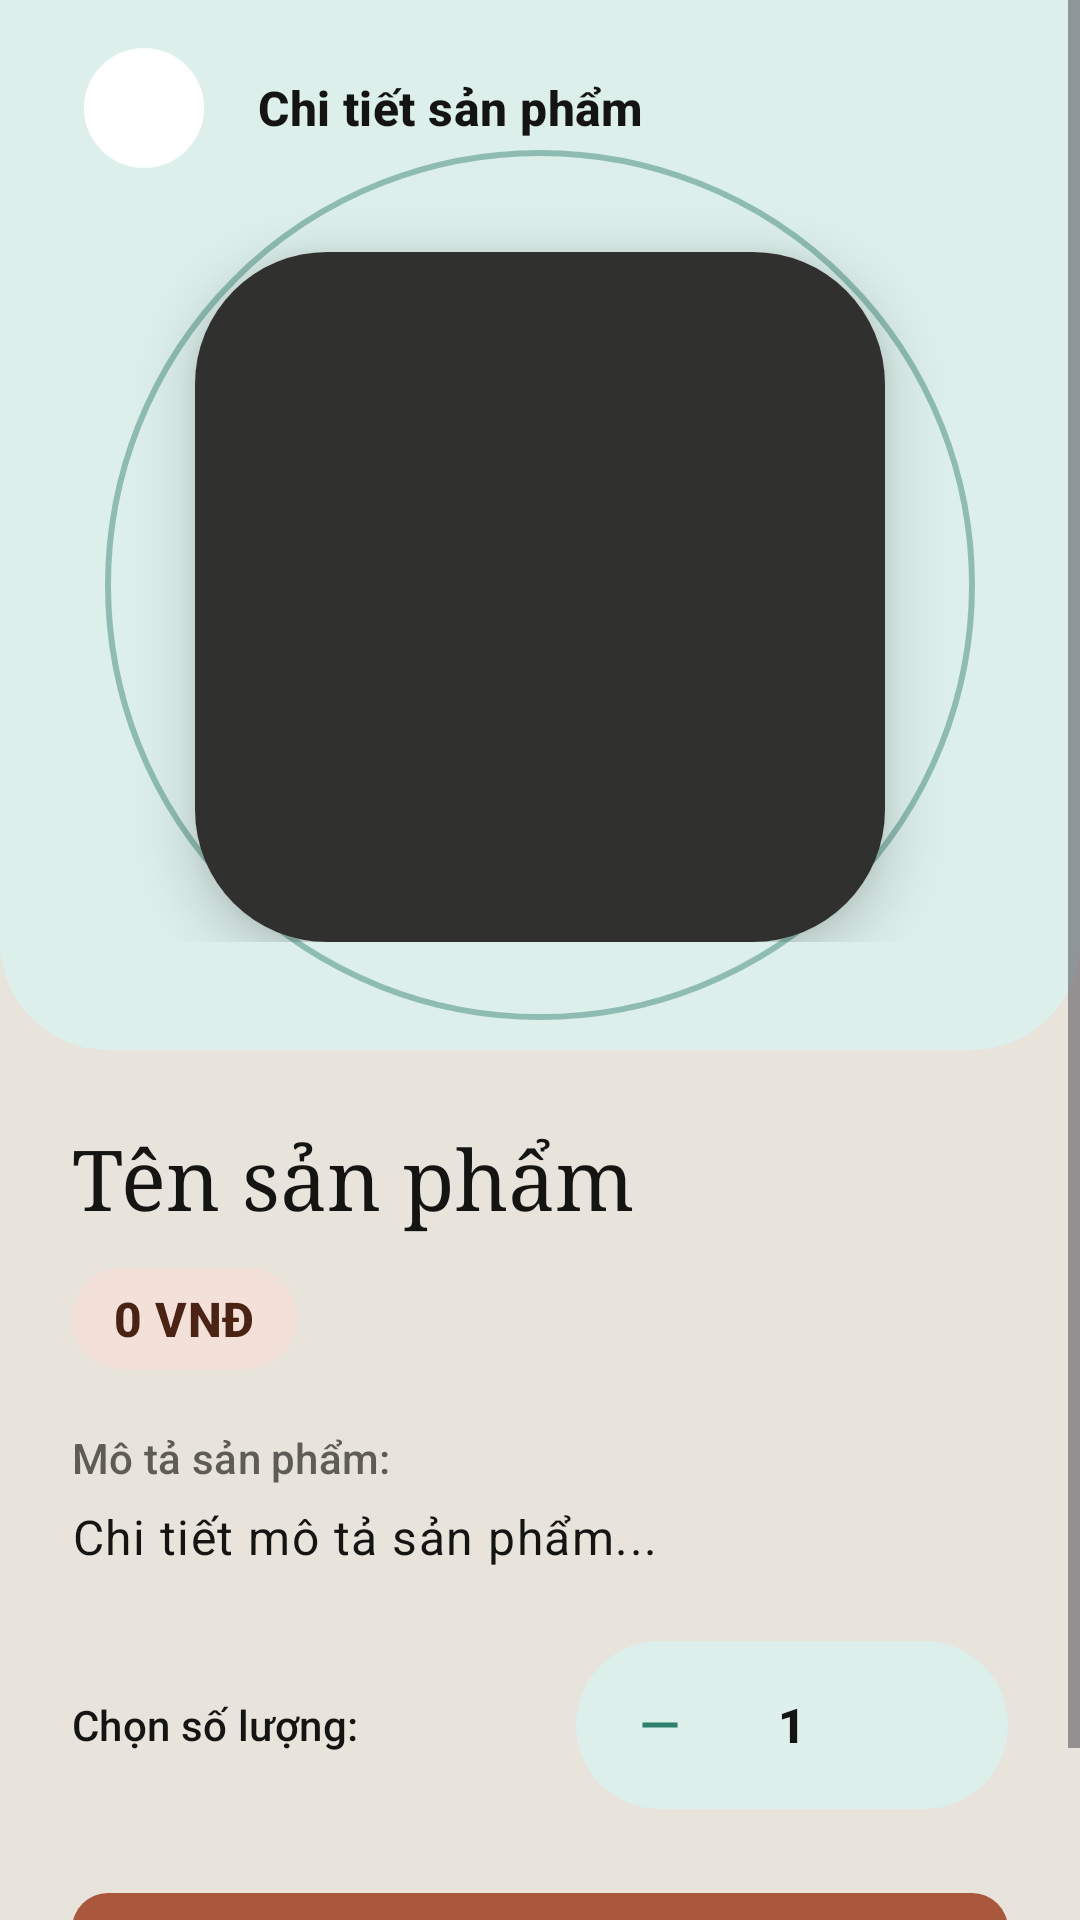

Icons on this 1080×1920 Android screen, each with its box as (x1, y1, x2, y2):
Giảm số lượng: (642, 1722, 678, 1728)
